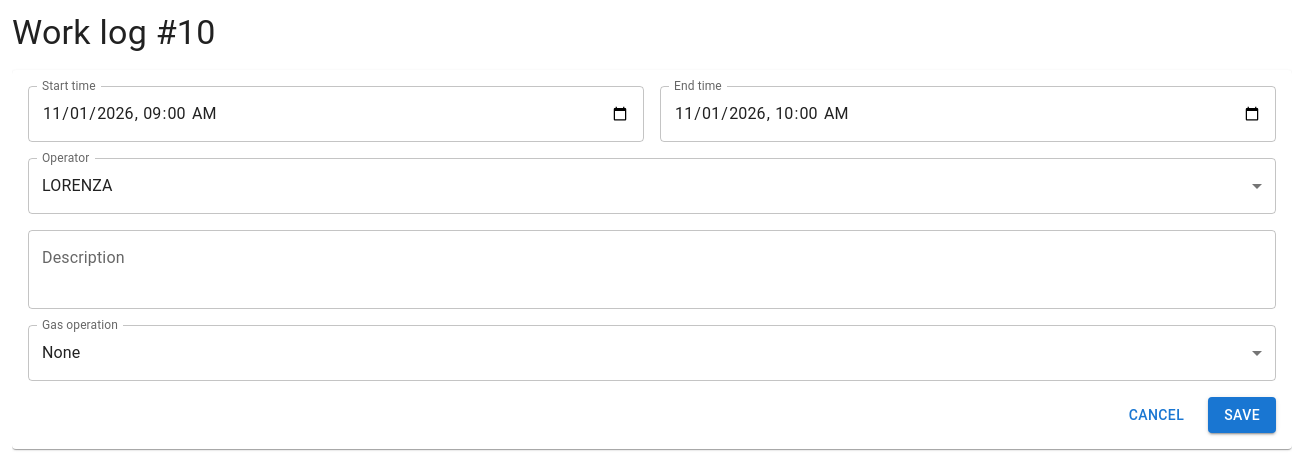
Test: WorkLogPage › keeps the current operator when it is not in settings
This screenshot has width=1292, height=468.
Press the mouse on the dropdown named "Operator": (77, 186) [42,176,113,196]
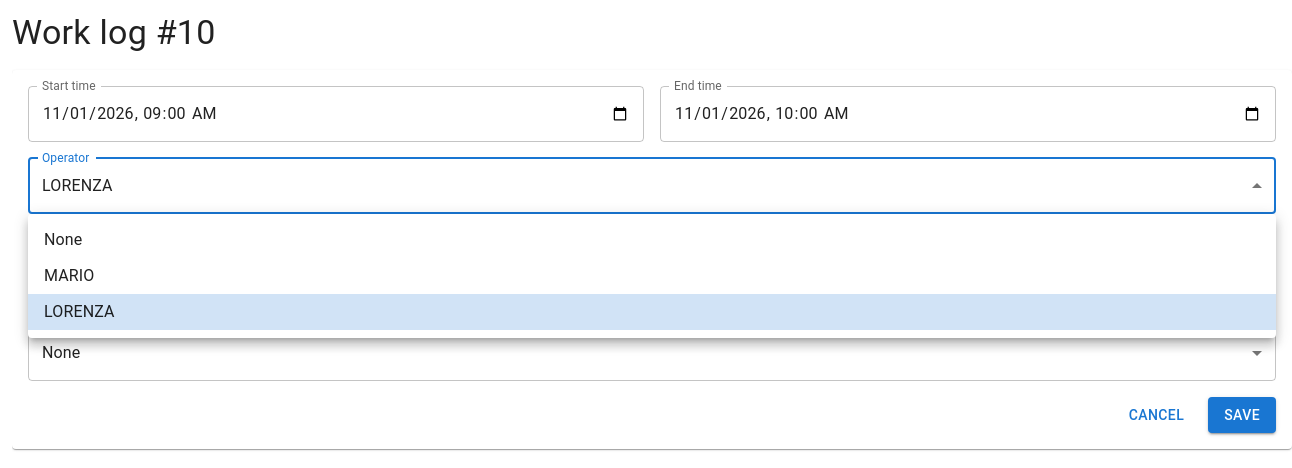
Expected: the option "LORENZA" is shown, [28,294,1276,330]
